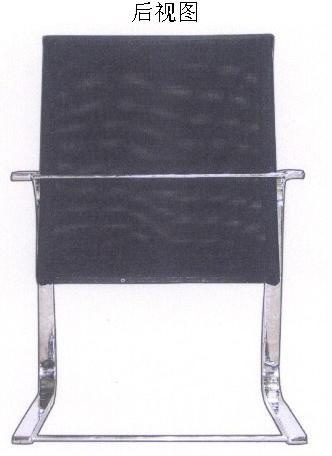obstacle: (12, 34, 306, 443)
